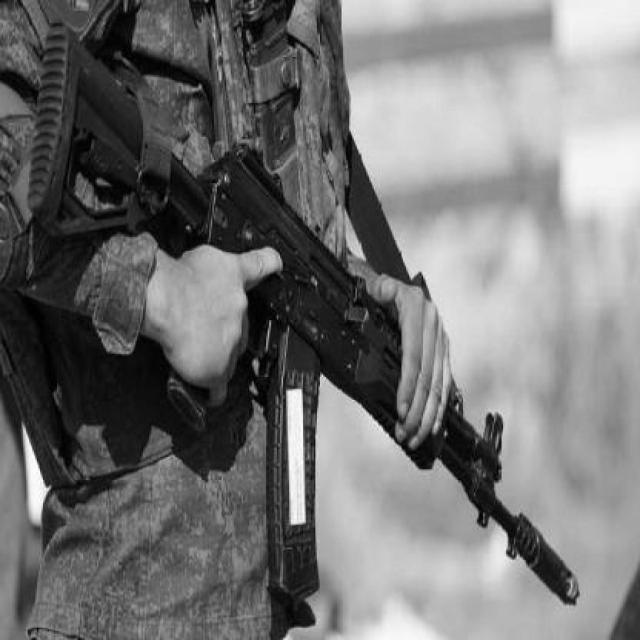weapon: (25, 18, 580, 610)
